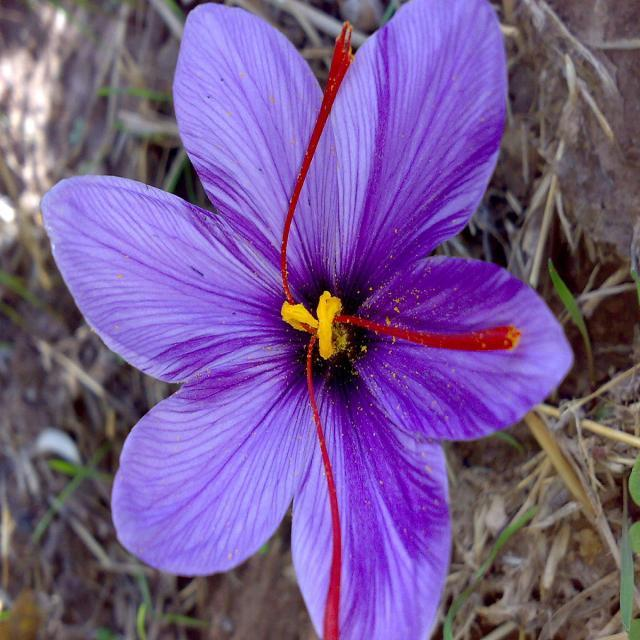Flower: (42, 0, 573, 640)
stigma: (278, 21, 359, 307), (290, 331, 346, 638), (330, 312, 522, 356)
